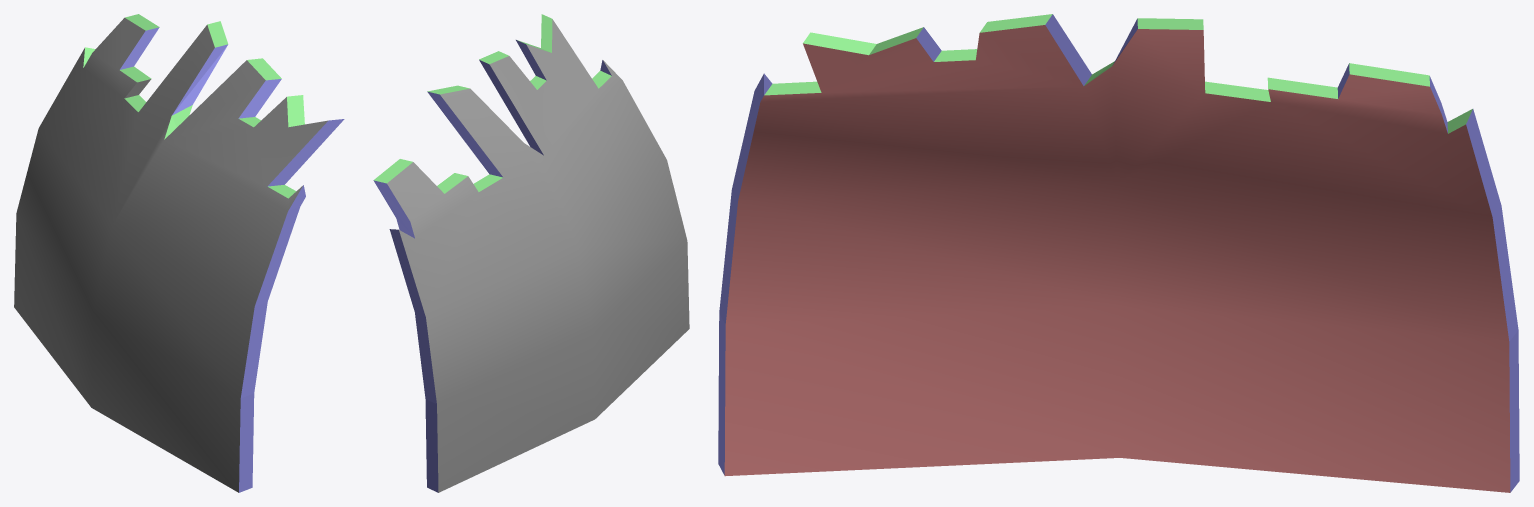
File: PM_Plain_OBJ_02.gltf
3 views of the same model, side by side, from view 1: azimuth 30°, elevation 25°; view 2: azimuth 150°, elevation 25°; view 3: azimuth 270°, elevation 25° (orthographic). The views are drawn at different scales.
Visible parts, largest first — view 1: PM_Plain_OBJ_02; view 2: PM_Plain_OBJ_02; view 3: PM_Plain_OBJ_02.
Boxes of the visible parts, x1,y1,x2,y2 form: PM_Plain_OBJ_02: (14,14,344,492); PM_Plain_OBJ_02: (373,14,689,492); PM_Plain_OBJ_02: (718,14,1519,492).
Bounding box in the file's own units: 0.4868 × 0.9904 × 1.34.
